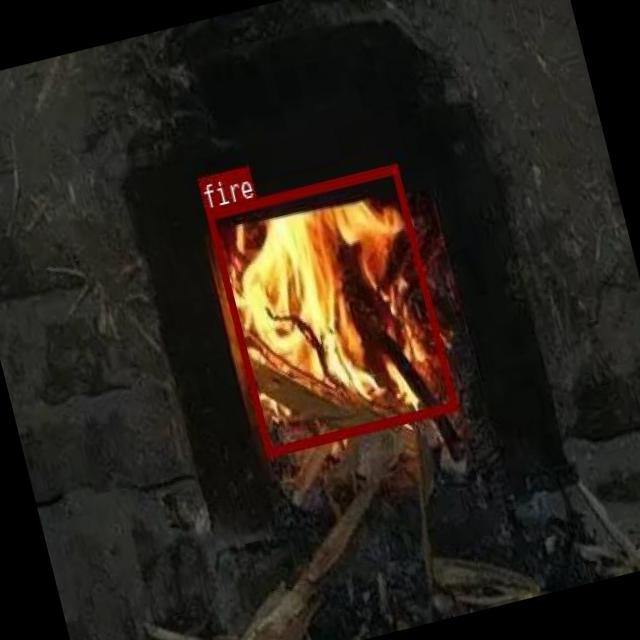fire: (204, 162, 456, 456)
